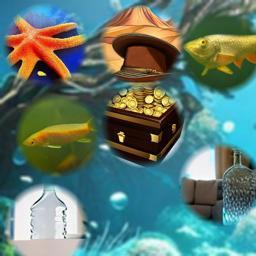not an animal: (216, 147, 256, 228), (26, 182, 73, 247)
treasure: (102, 84, 184, 166)
